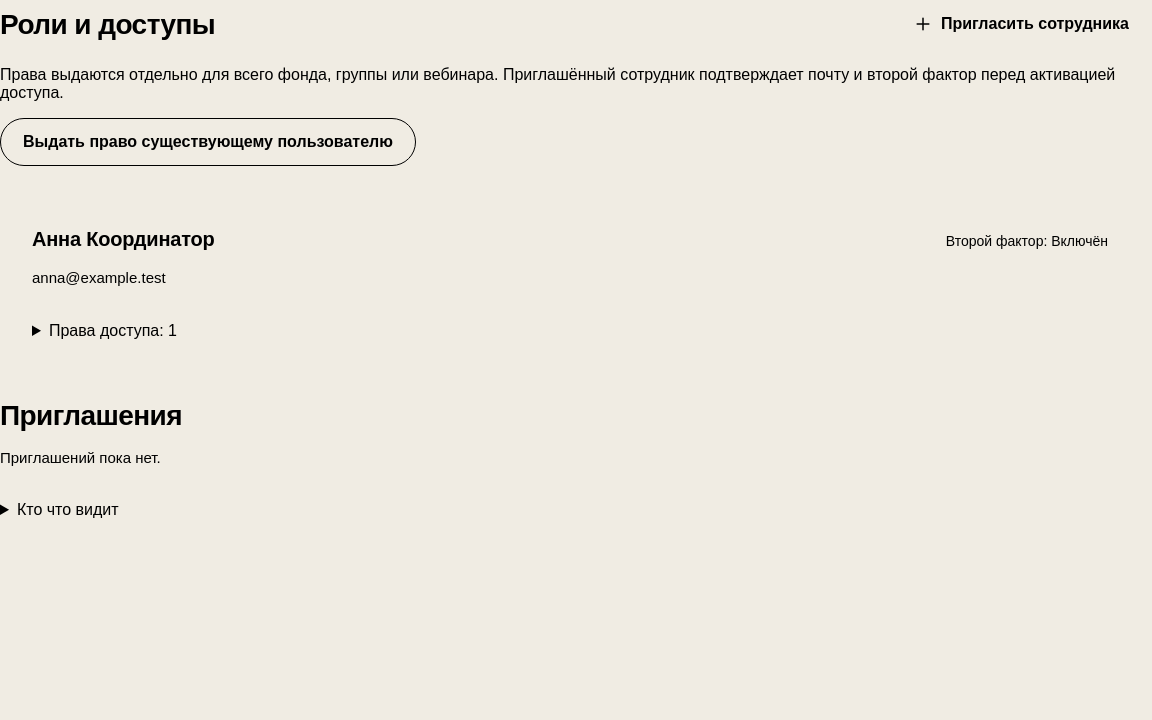
Test case: collapses each staff grant list while preserving scope and an explicit revoke confirmation
Check: the text "anna@example.test" is shown, box 32,269 -> 166,286
Check: the text "Второй фактор: Включён" is shown, box 946,233 -> 1108,249
Step 1. Click the heading "Права доступа: 1" → (113, 330), box 49,322 -> 177,339
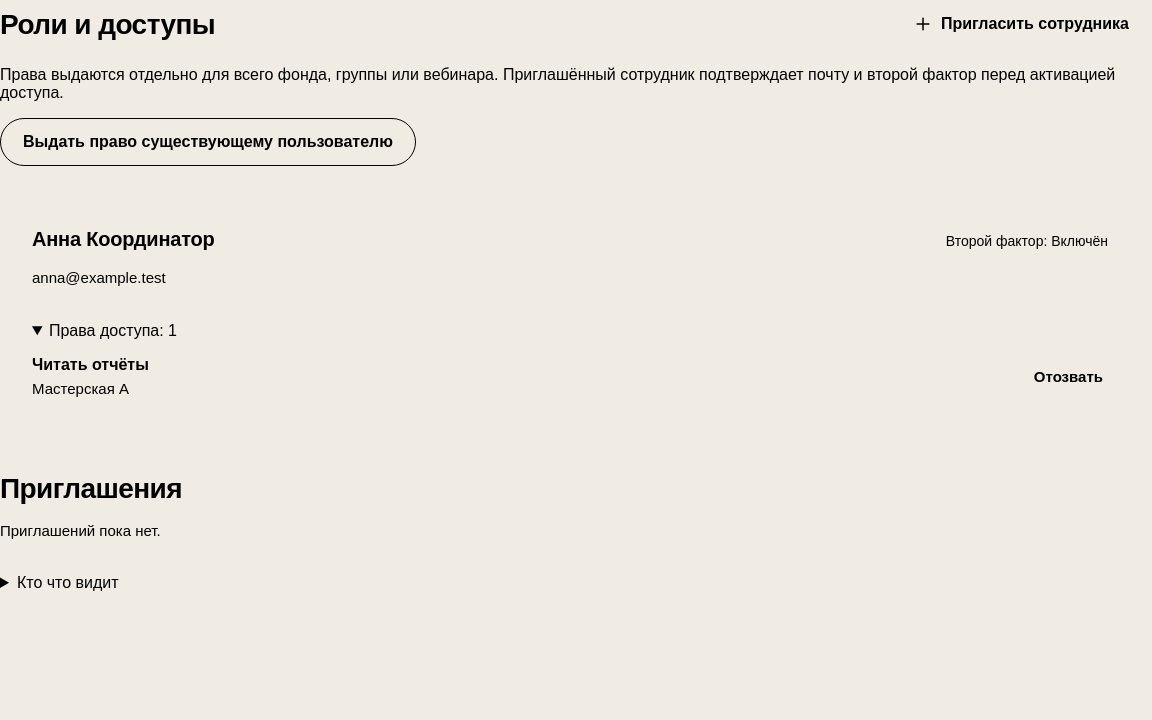
Check: the text "Мастерская А" is shown, box 32,380 -> 129,397
Step 2. Click the button "Отозвать" → (1068, 376), box 1017,356 -> 1120,396
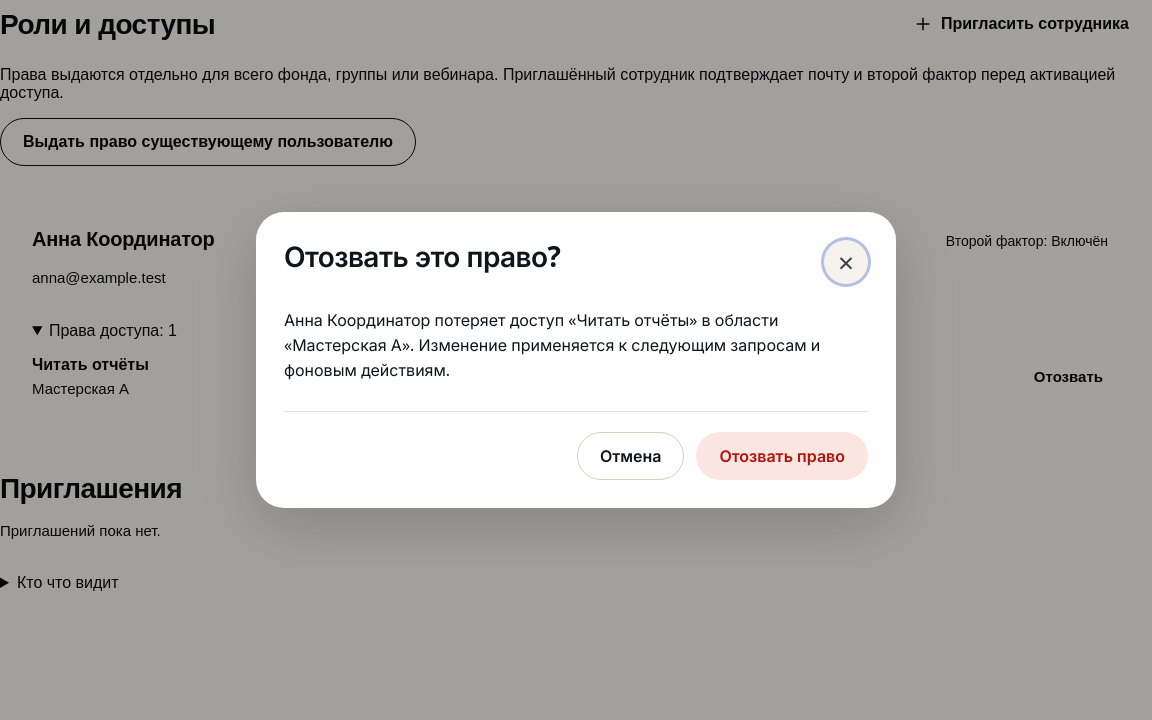
Check: the text "Анна Координатор потеряет доступ «Читать отчёты» в области «Мастерская А»" is shown, box 284,308 -> 868,383
Step 3. Click the button "Отмена" → (631, 456), box 577,432 -> 684,480
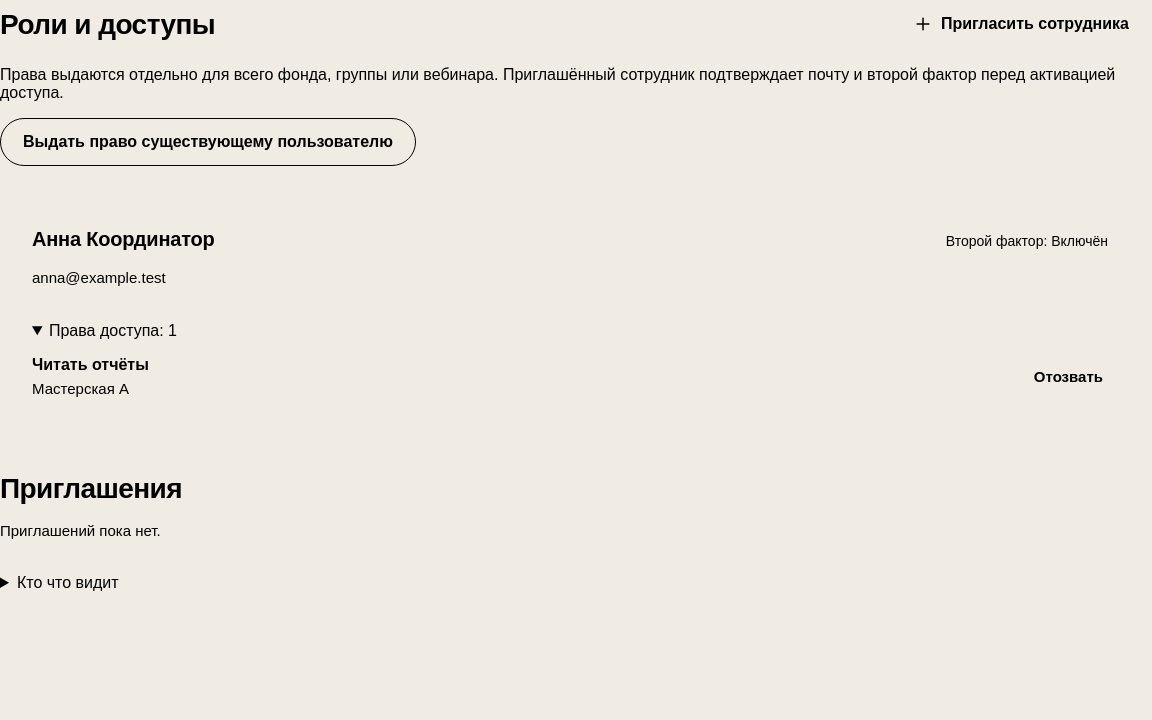
Check: the dialog is gone
